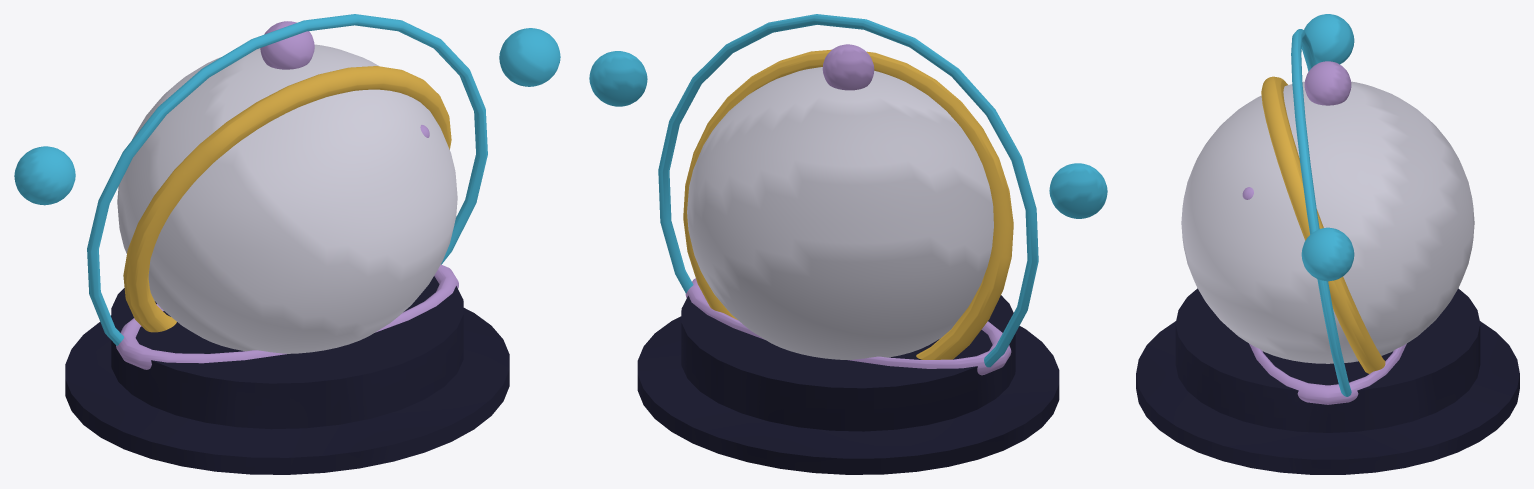
The model's file is 0031_天文图鉴_恒星.glb.
3 views of the same model, side by side, from view 1: azimuth 30°, elevation 25°; view 2: azimuth 150°, elevation 25°; view 3: azimuth 270°, elevation 25° (orthographic). The views are drawn at different scales.
Parts seen in each view (by area): view 1: card_0031; view 2: card_0031; view 3: card_0031.
Part boxes in pixels (x1,y1,x2,y2): card_0031: [14, 14, 560, 474]; card_0031: [589, 14, 1107, 474]; card_0031: [1136, 14, 1519, 474].
Bounding box in the file's own units: 1.46 × 1 × 0.9945.
